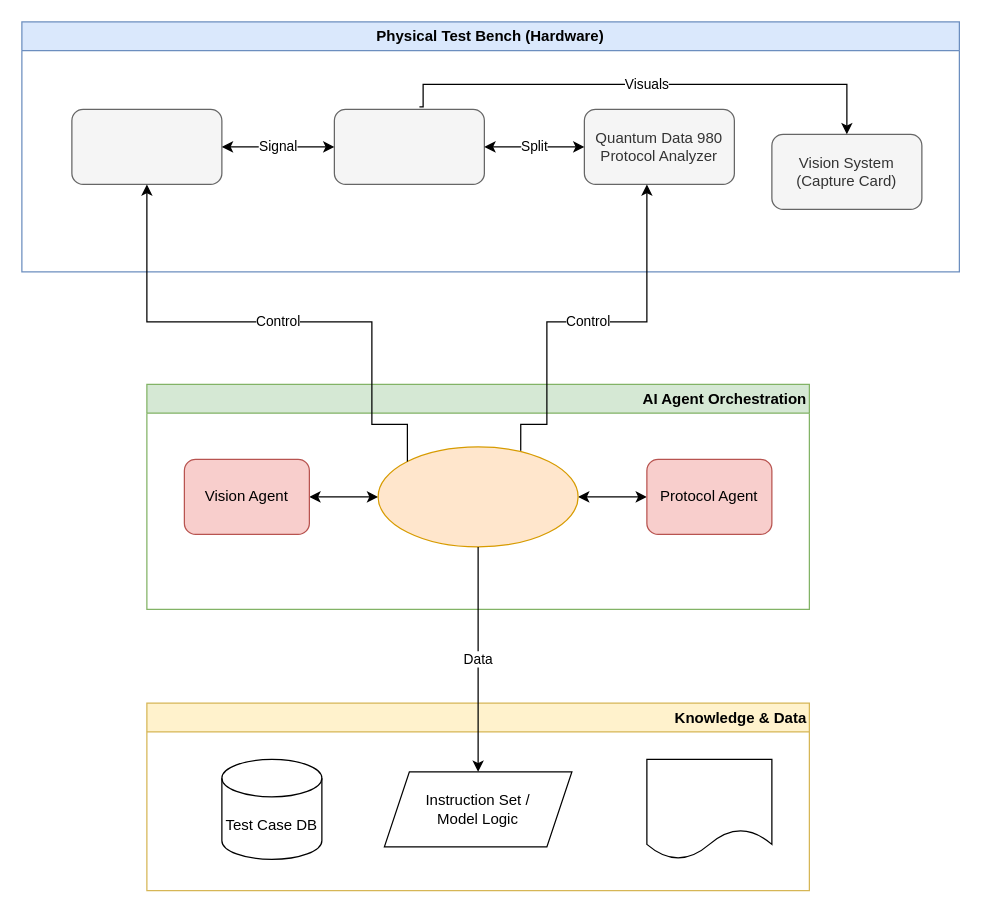
Some shapes in this 981 by 913 pixel diagram are drawn without their labels. The centre of each missing label's shape, as x and y in pixels:
"AI Orchestrator Agent" belongs at point 477,496.
"MSPG-6100L Signal Generator" belongs at point 146,146.
"Results & Logs" belongs at point 709,808.
"Smart TV (SUT)" belongs at point 408,146.
